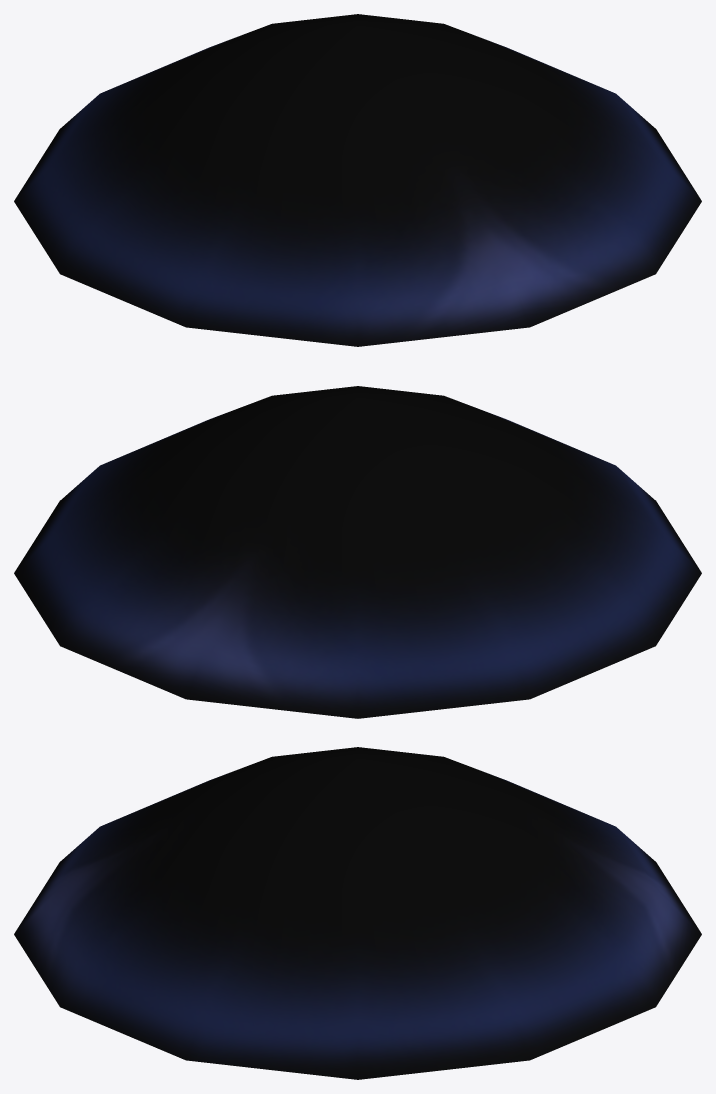
File: SkyNight1.obj
The picture shows the model from 3 angles, top to bottom: view 1: azimuth 30°, elevation 25°; view 2: azimuth 150°, elevation 25°; view 3: azimuth 270°, elevation 25°; orthographic projection.
Parts seen in each view (by area): view 1: _02_sky, _03_land; view 2: _02_sky, _03_land; view 3: _02_sky, _03_land.
Part boxes in pixels (<box>): _02_sky: <box>14,14,701,346</box>; _03_land: <box>14,128,701,346</box>; _02_sky: <box>14,386,701,718</box>; _03_land: <box>14,500,701,718</box>; _02_sky: <box>14,747,701,1079</box>; _03_land: <box>14,861,701,1079</box>.
Size of the model in its own units: 1.11e+07 by 3647671 by 1.11e+07.
